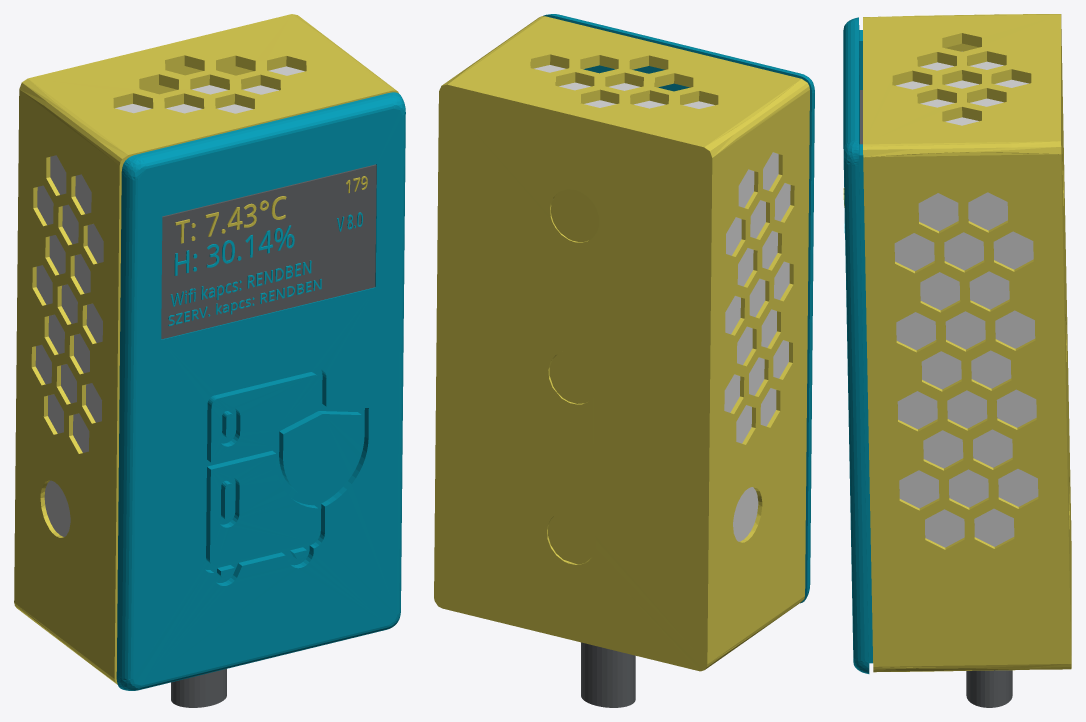
The model's file is sarga_kek.glb.
The picture shows the model from 3 angles, left to right: view 1: azimuth 30°, elevation 25°; view 2: azimuth 150°, elevation 25°; view 3: azimuth 270°, elevation 25°; orthographic projection. The views are drawn at different scales.
Visible parts, largest first — view 1: Mesh_Mesh_head_geo.001_lambert2SG.001; view 2: Mesh_Mesh_head_geo.001_lambert2SG.001; view 3: Mesh_Mesh_head_geo.001_lambert2SG.001.
Boxes of the visible parts, left/top/right/bottom form: Mesh_Mesh_head_geo.001_lambert2SG.001: left=14, top=14, right=405, bottom=707; Mesh_Mesh_head_geo.001_lambert2SG.001: left=434, top=14, right=814, bottom=707; Mesh_Mesh_head_geo.001_lambert2SG.001: left=843, top=14, right=1071, bottom=707.
Bounding box in the file's own units: 33 × 70.15 × 23.52.
